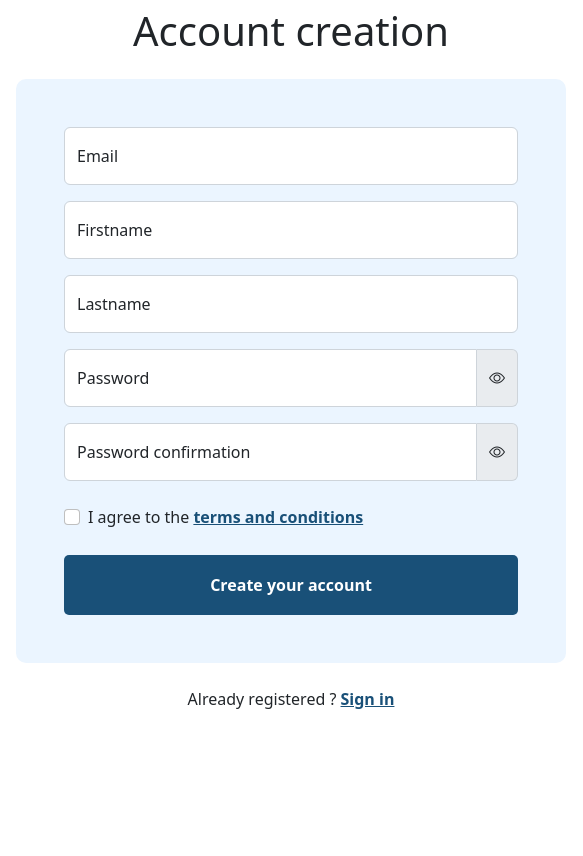
it: SignUp › form › after form submission › render required errors messages when inputs are empty and terms checkbox is unchecked
Click the button "Create your account": (291, 585) [64,555,518,615]
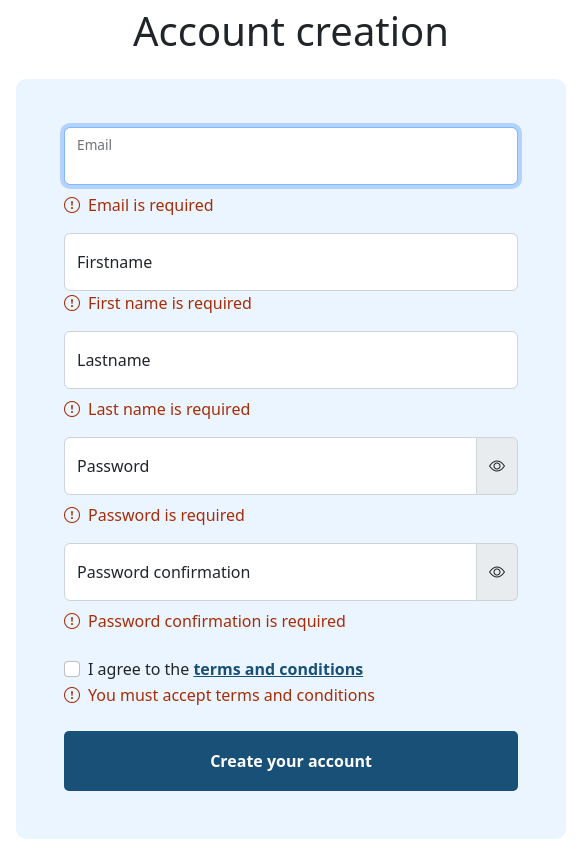
Now the text "Email is required" is shown, box [88,193,214,217]
